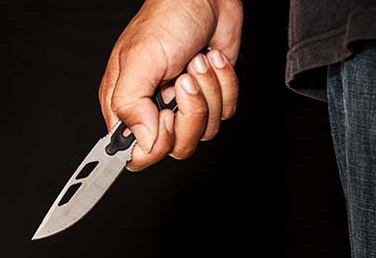knife: (27, 42, 224, 244)
